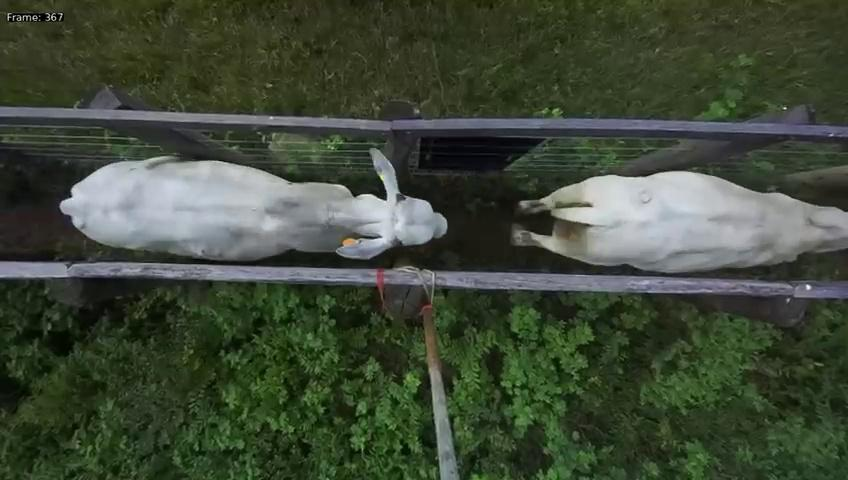cattle: (56, 138, 447, 264)
